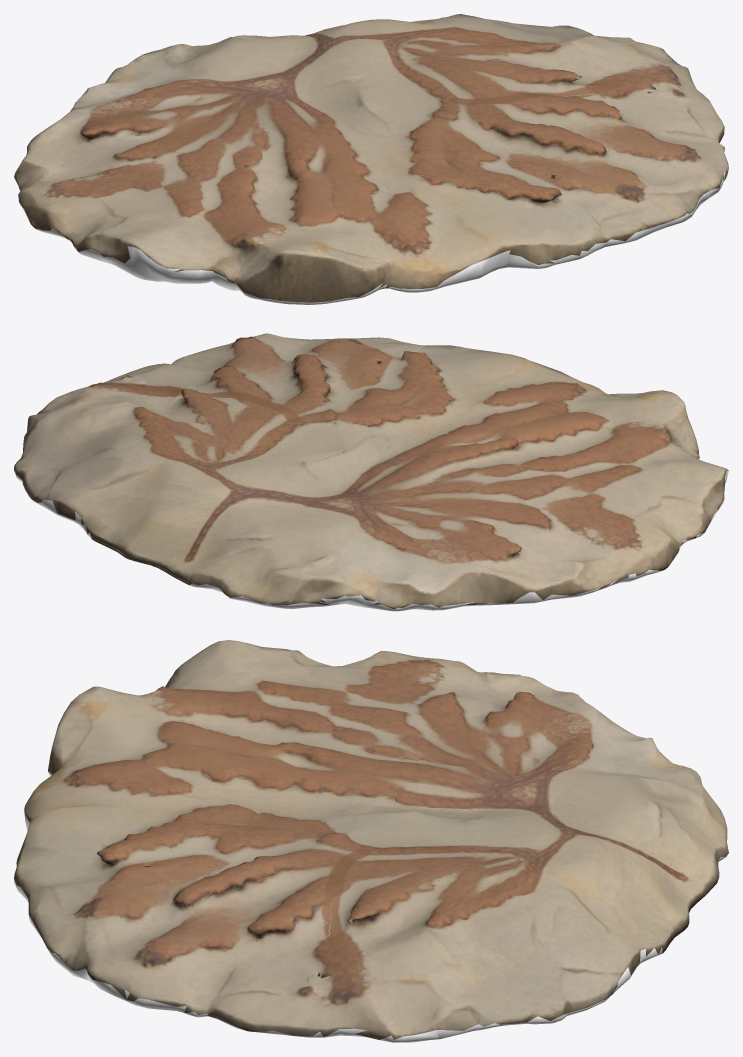
3 views of the same model, one above another, from view 1: azimuth 30°, elevation 25°; view 2: azimuth 150°, elevation 25°; view 3: azimuth 270°, elevation 25° (orthographic). The views are drawn at different scales.
Visible parts, largest first — view 1: geometry_0; view 2: geometry_0; view 3: geometry_0.
Part boxes in pixels (x1,y1,x2,y2): geometry_0: [14, 14, 728, 304]; geometry_0: [14, 333, 728, 611]; geometry_0: [14, 640, 728, 1042].
Size of the model in its own units: 0.35 by 0.0296 by 0.2883.
Materials: 3 (2 with a texture image).
